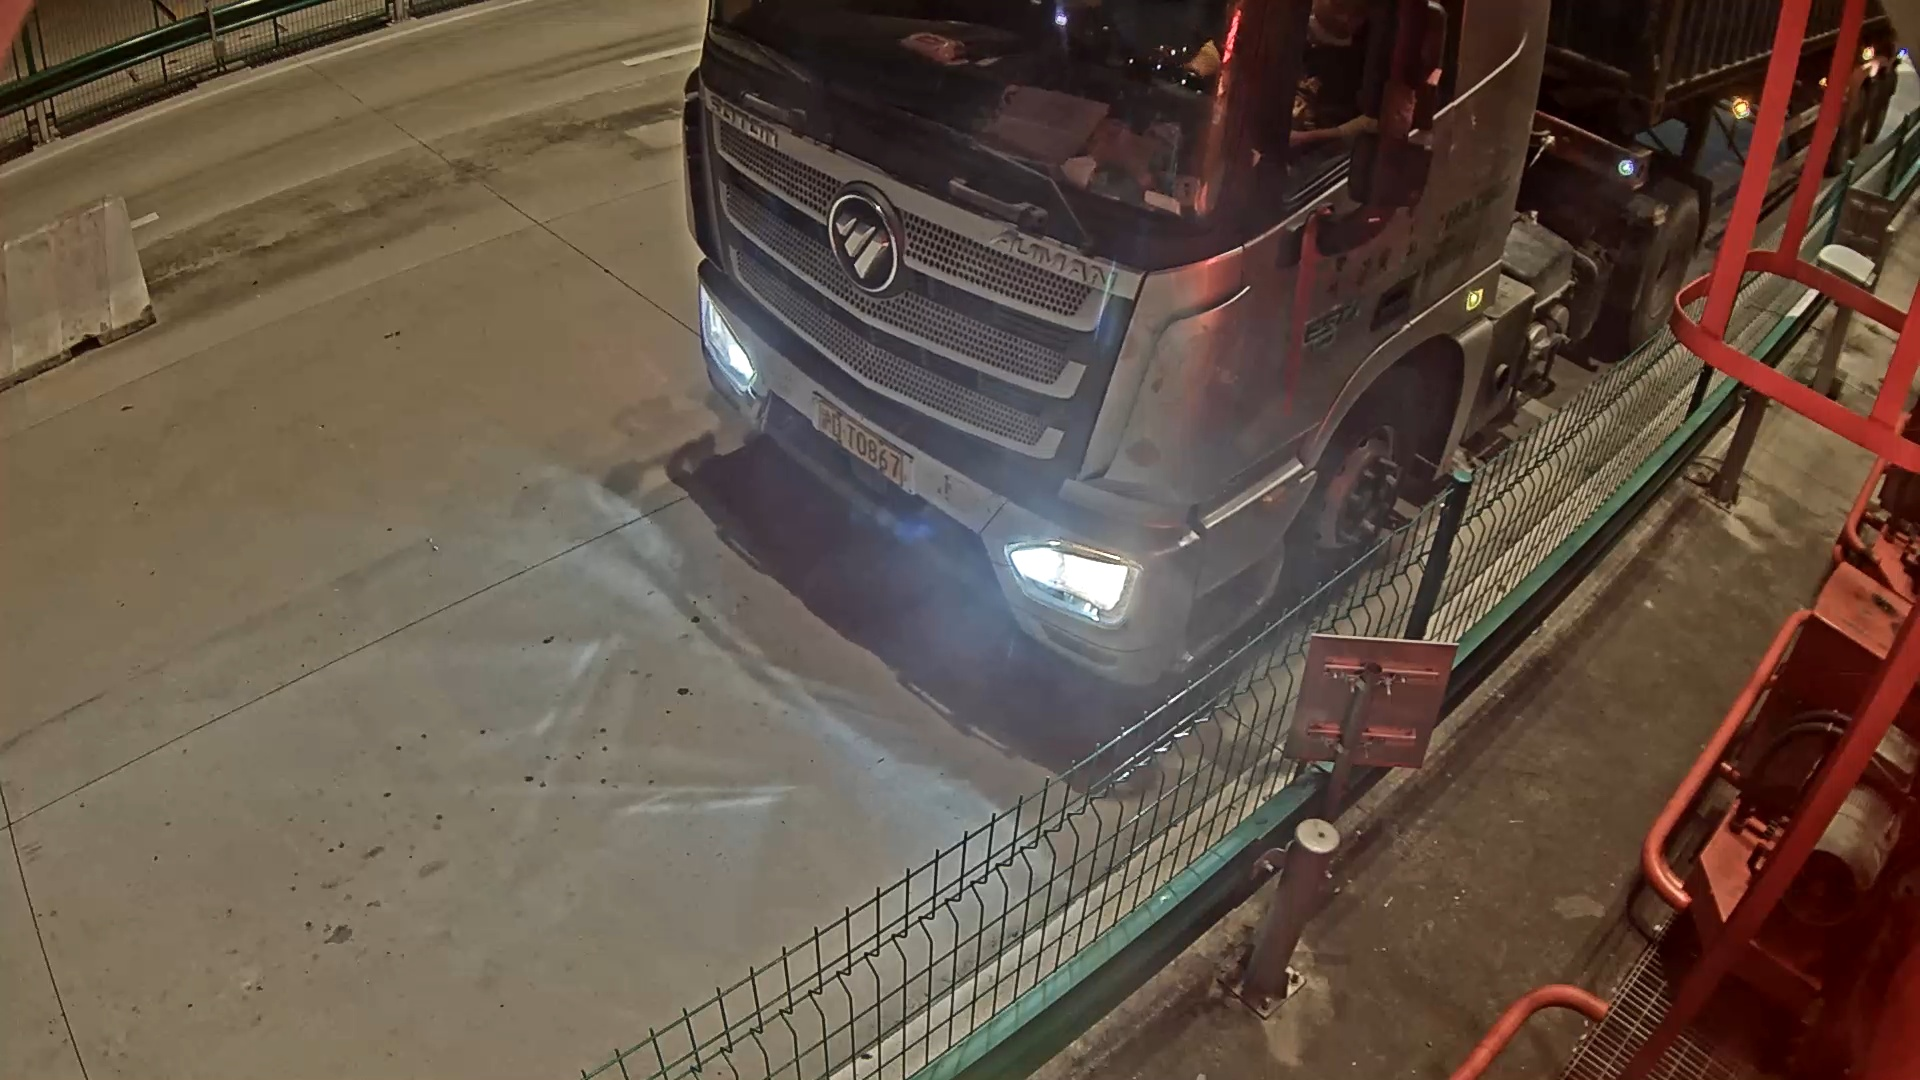head: (680, 27, 1399, 739)
plate: (809, 397, 922, 496)
